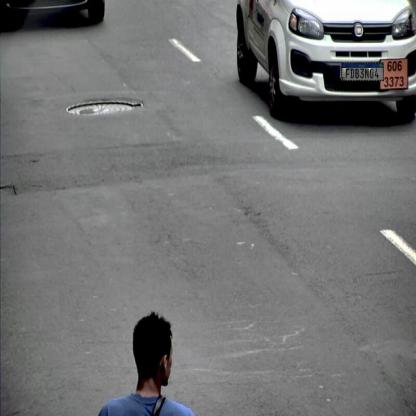PlacaM: (341, 63, 384, 81)
